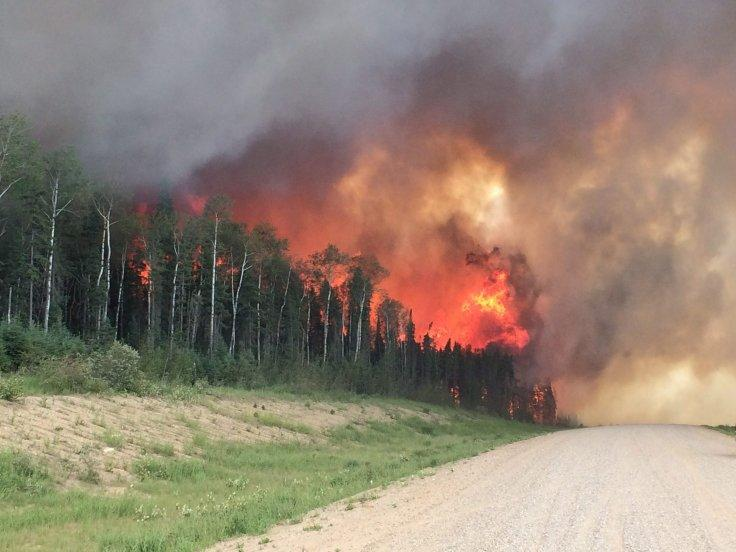smoke: (2, 2, 731, 423)
